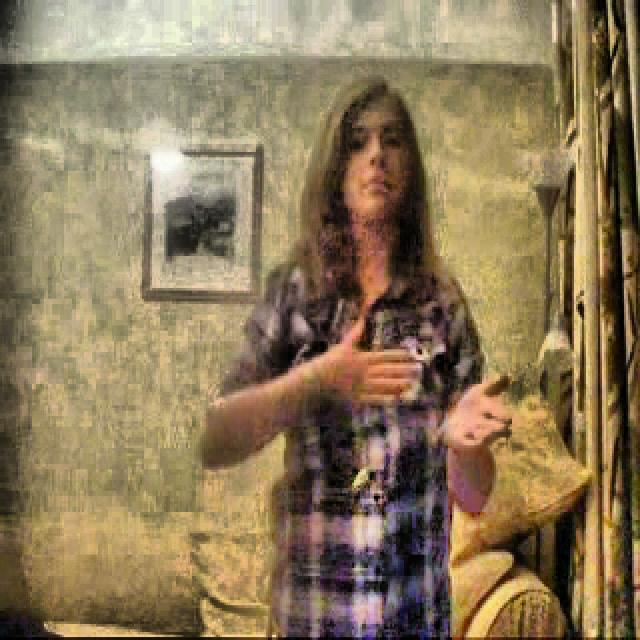F: (202, 77, 502, 636)
